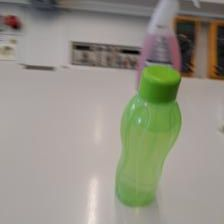bottle: (114, 62, 185, 207)
